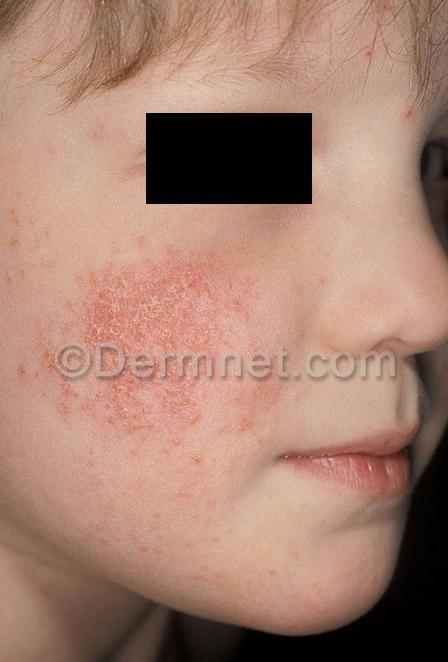edema 2: (8, 243, 237, 445)
